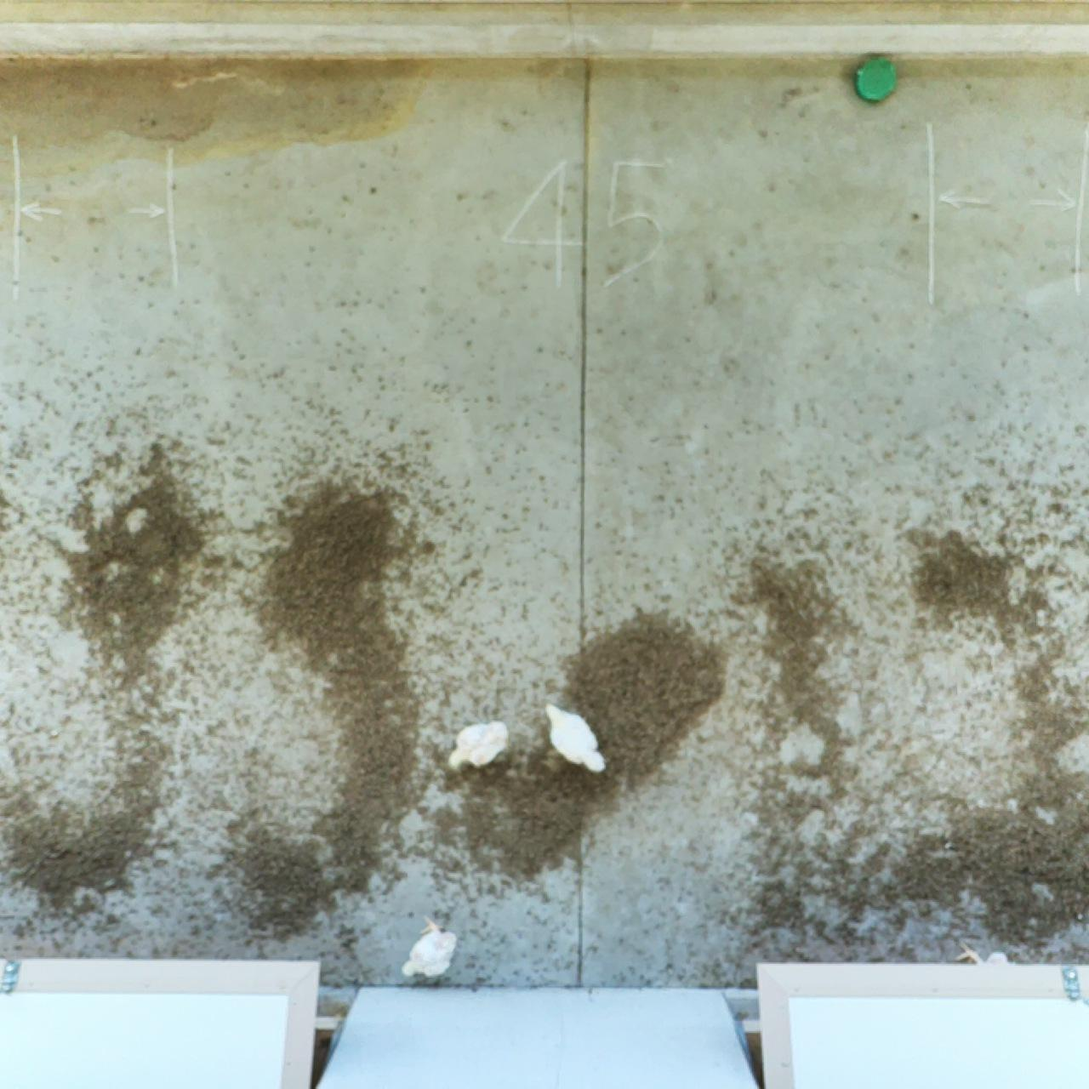chicken: (540, 697, 609, 779), (397, 913, 461, 985), (444, 720, 512, 776)
